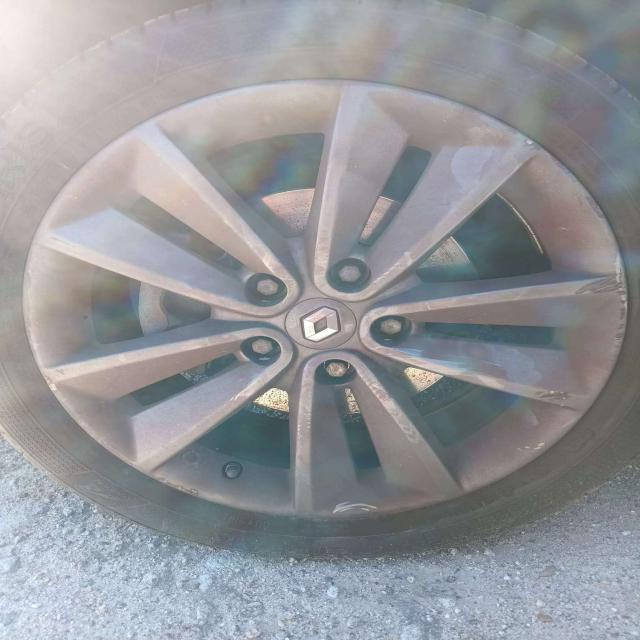jante: (21, 78, 628, 520)
parafuso: (328, 263, 367, 287), (251, 277, 281, 297), (379, 317, 405, 340), (324, 361, 352, 380), (247, 339, 277, 356)
roda: (0, 0, 640, 561)
